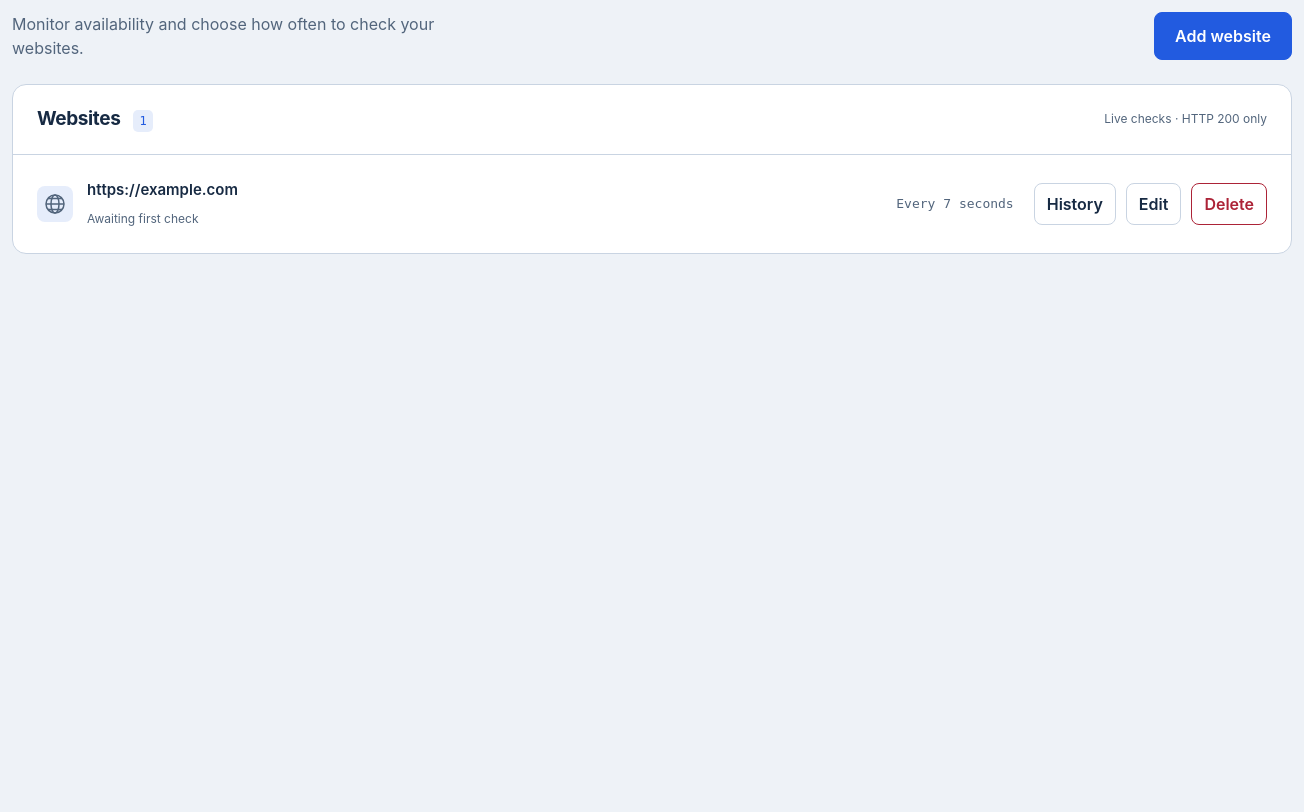
edits a saved URL and interval, and restores focus after saving
Expected: the text "https://example.com" is shown, [87, 178, 238, 201]
Click the button "Edit".
click(1154, 204)  # box [1126, 183, 1181, 225]
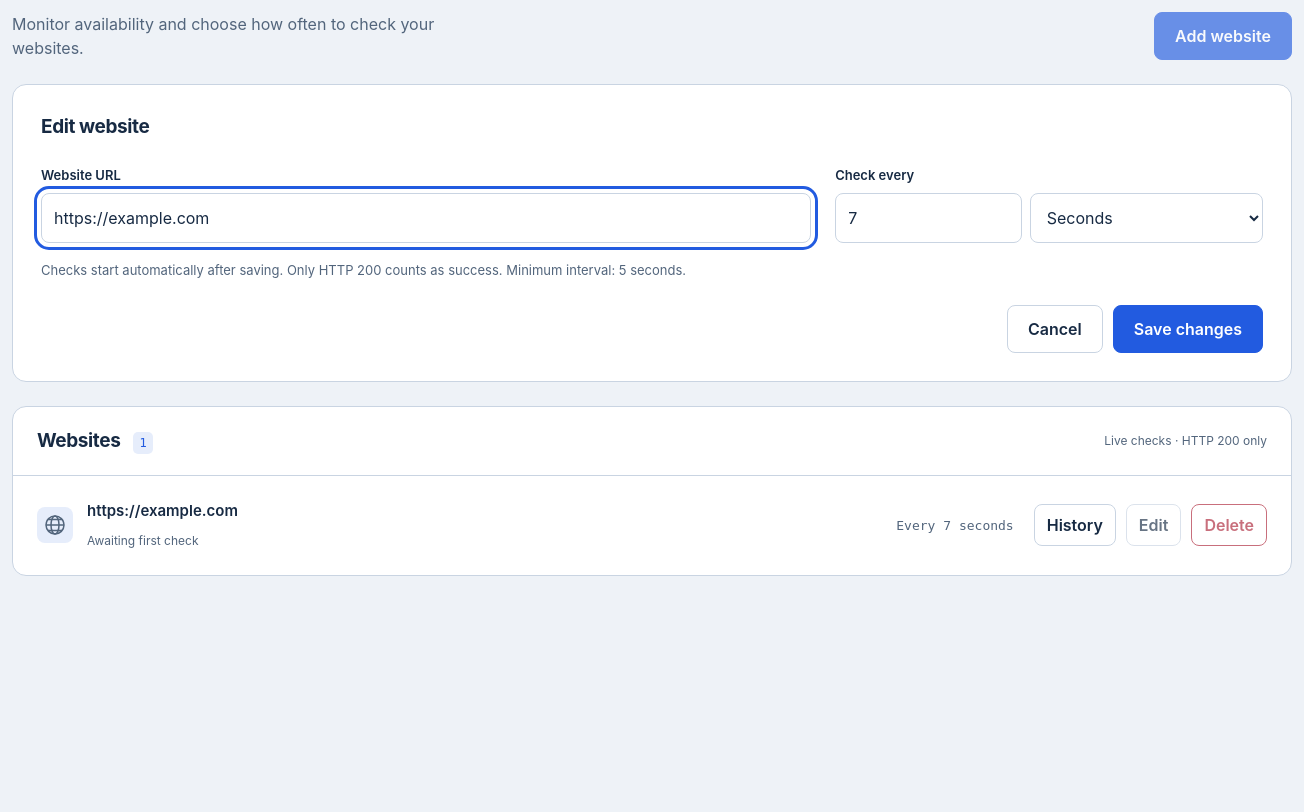
Expected: the field labelled "Website URL" holds "https://example.com"
Expected: the number field holds "7", [835, 193, 1022, 243]
Expected: the dropdown named "Interval unit" shows "Seconds", [1030, 193, 1263, 243]
Type "https://changed.example" into the field labelled "Website URL".
click(426, 218); type("https://changed.example")  # box [41, 193, 811, 243]
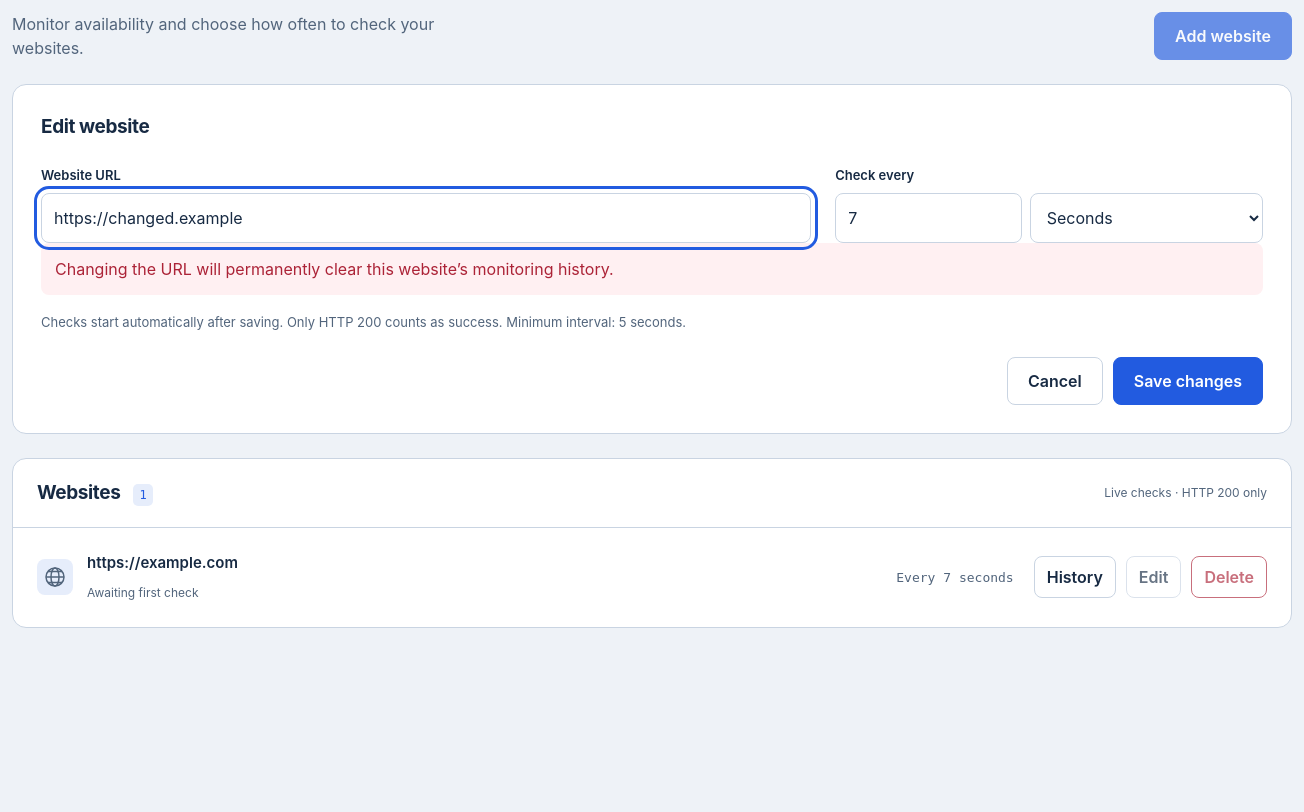
Replace the text in the number field with "10" at (928, 218), box [835, 193, 1022, 243]
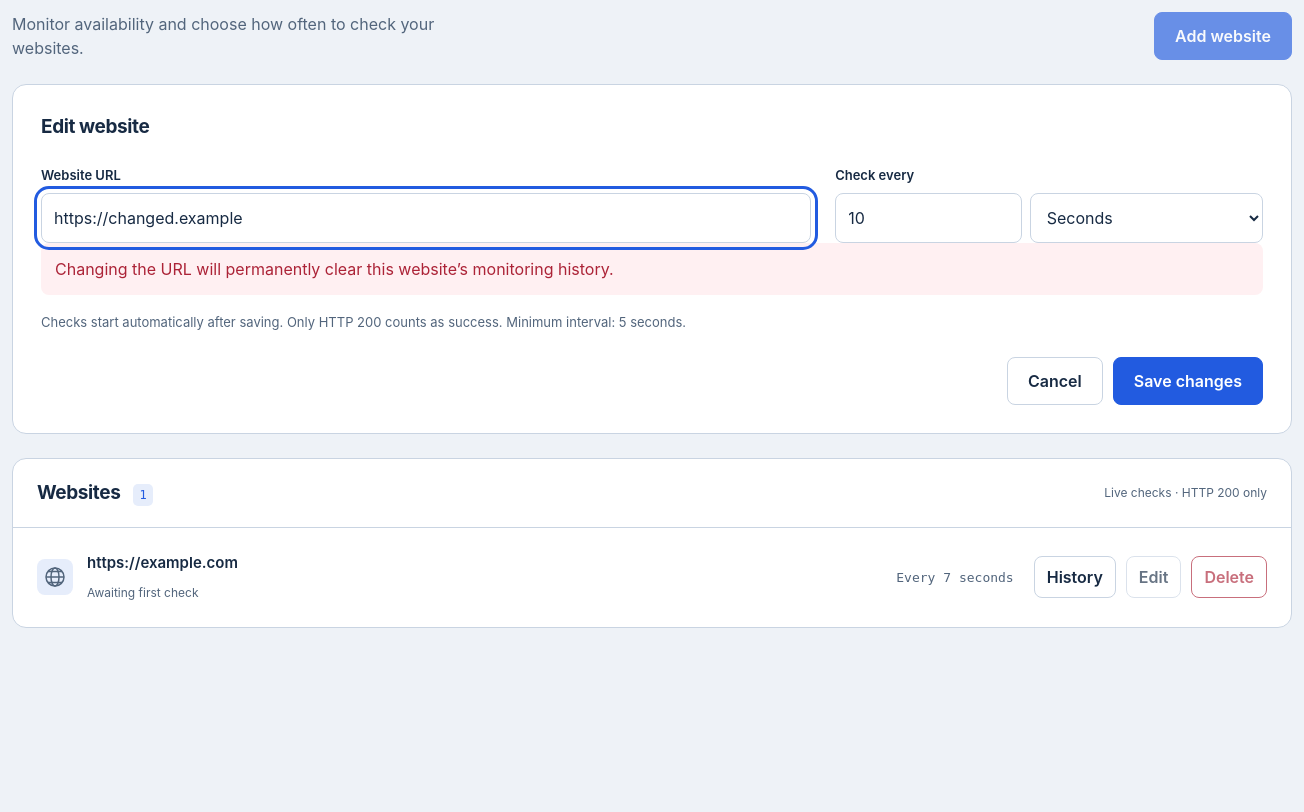
Select "Minutes" in the dropdown named "Interval unit" at (1146, 218), box [1030, 193, 1263, 243]
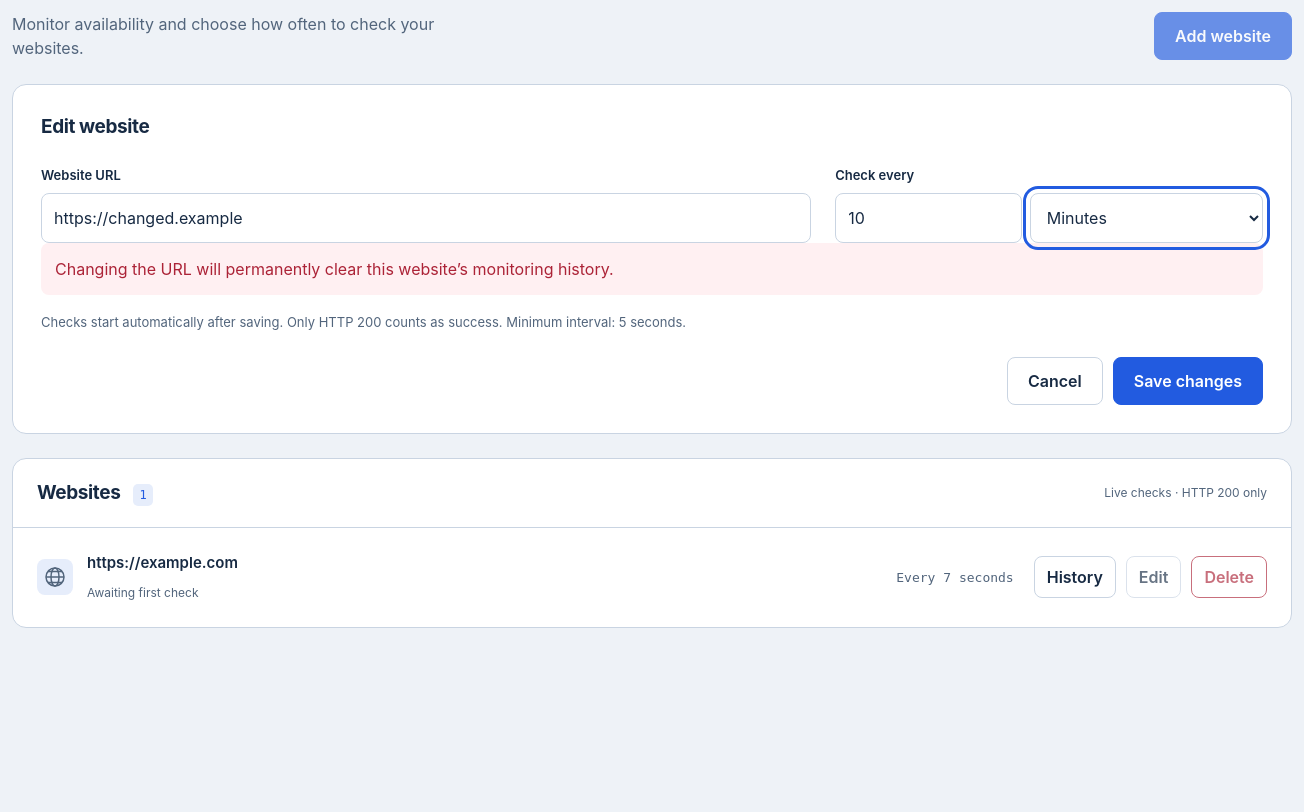
Click the button "Save changes".
click(1188, 380)  # box [1113, 356, 1263, 404]
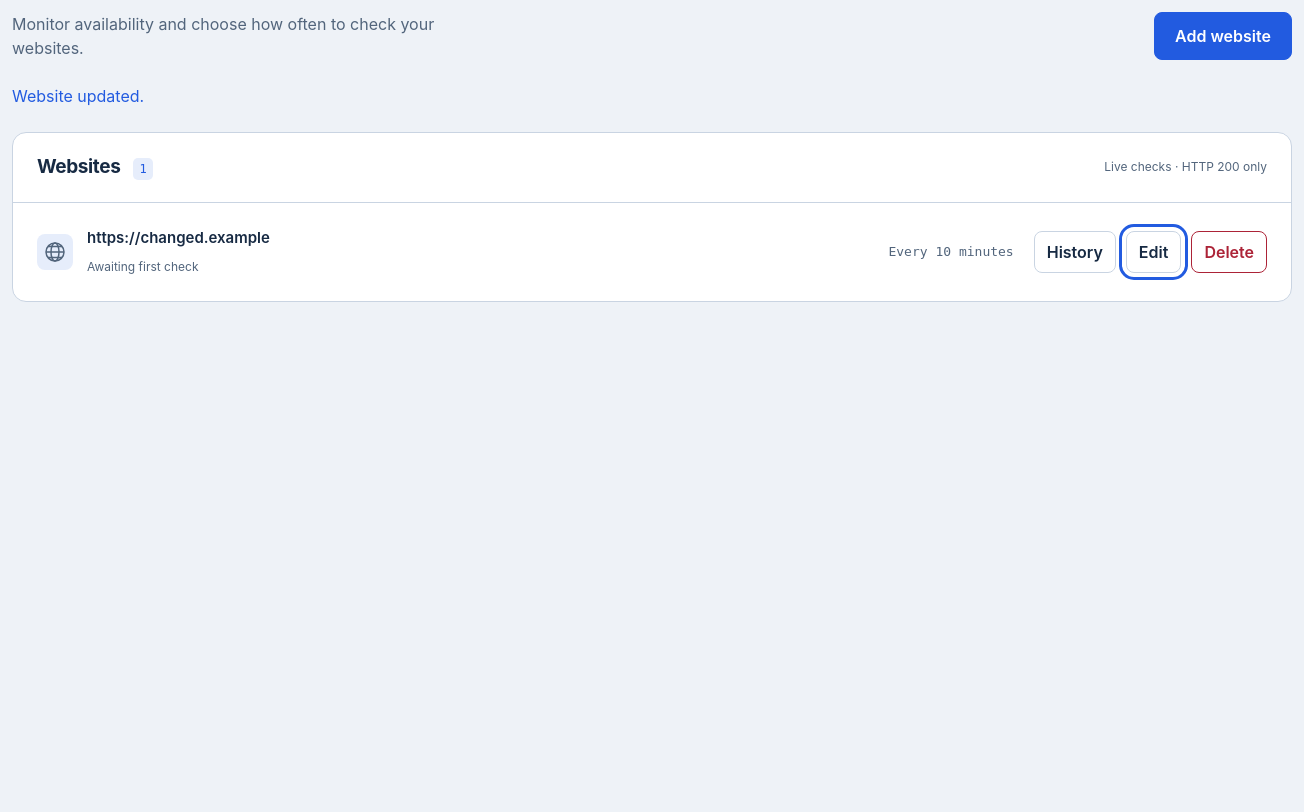
Expected: the text "Every 10 minutes" is shown, [888, 244, 1014, 259]
